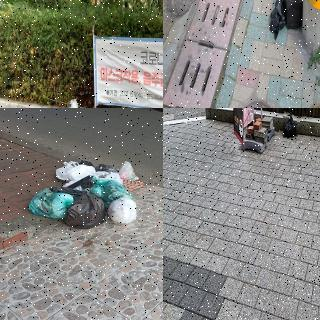Garbage: (66, 190, 107, 229), (26, 185, 73, 218), (106, 192, 141, 228), (92, 178, 134, 203), (280, 0, 309, 32), (56, 161, 95, 182), (280, 110, 300, 141), (63, 98, 86, 108)
